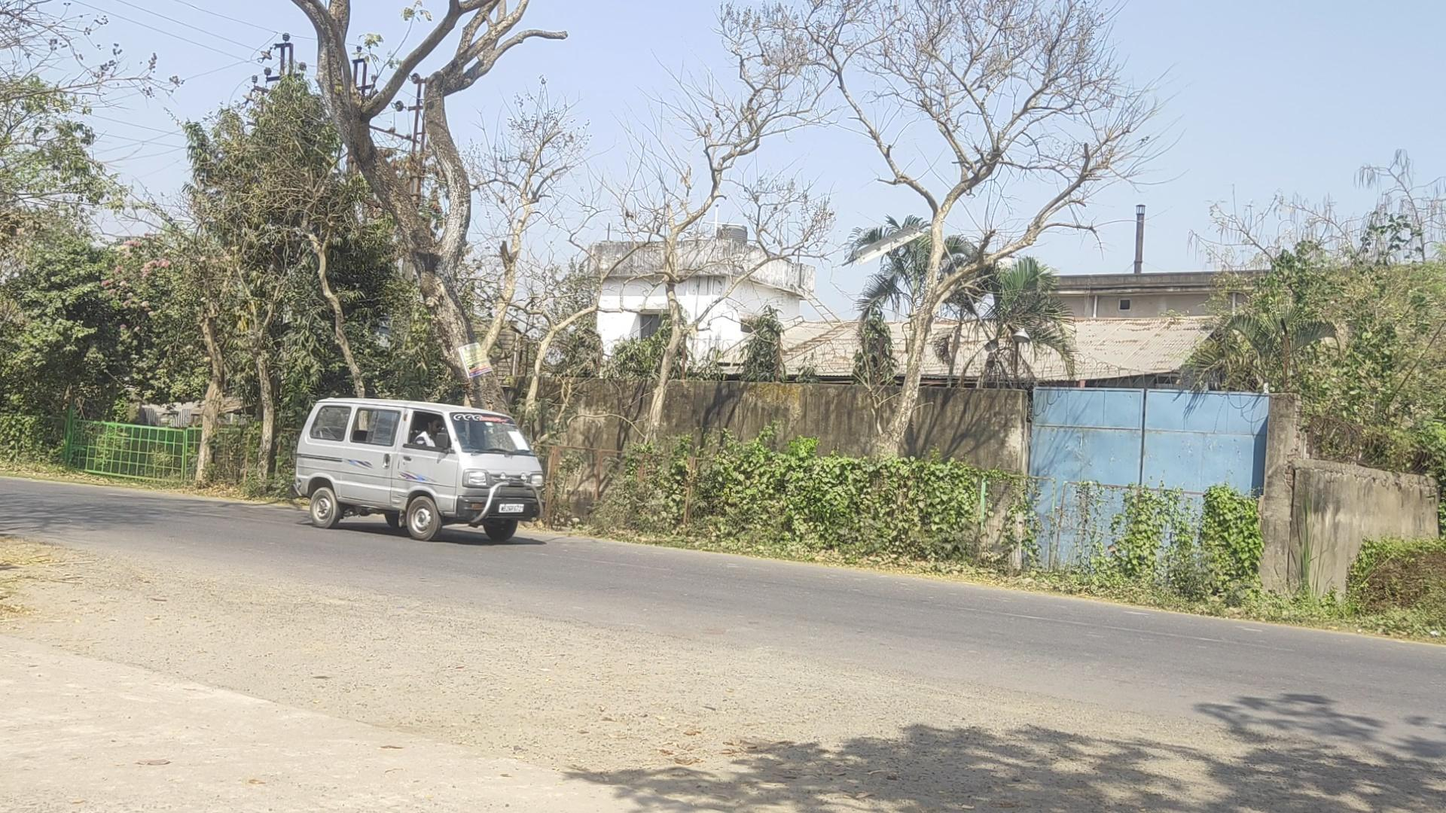van: (291, 395, 545, 542)
